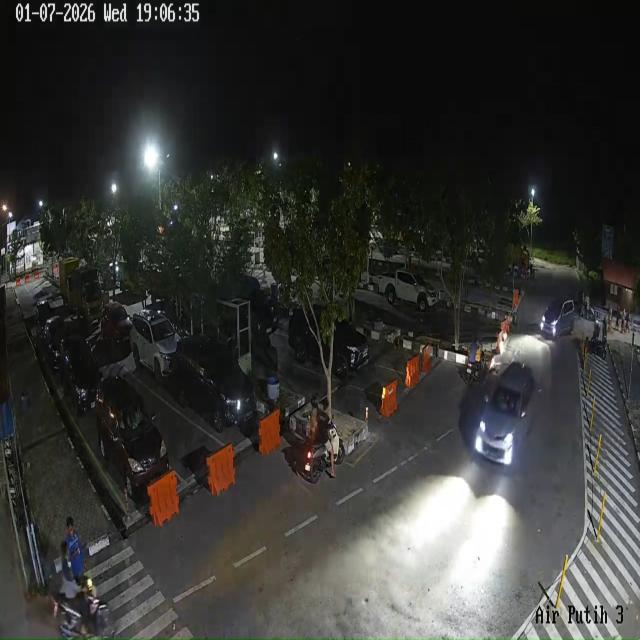Golongan IVA: (167, 336, 257, 434), (96, 376, 169, 496), (474, 362, 535, 465), (288, 306, 369, 379), (129, 309, 179, 382), (60, 335, 102, 416), (540, 298, 576, 338), (41, 316, 66, 370), (101, 301, 131, 342)
Golongan IVB: (378, 270, 439, 312)
Golongan VB: (59, 258, 102, 322)
